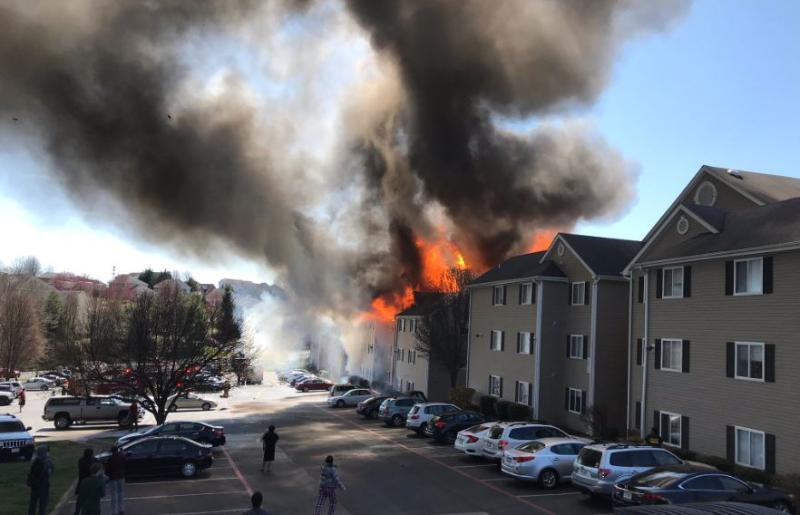Fire: (359, 190, 572, 329)
